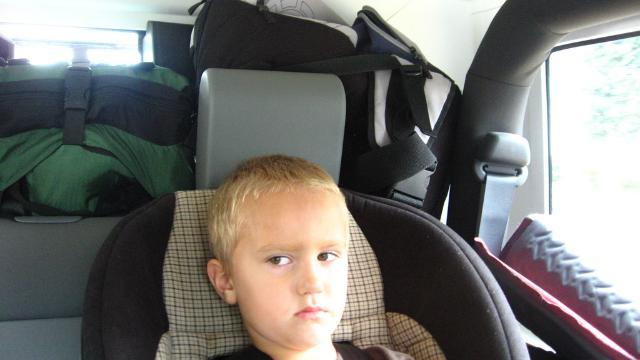SafeDriving: (258, 242, 302, 273), (308, 239, 346, 268)
Seatbelt: (469, 170, 528, 258)
